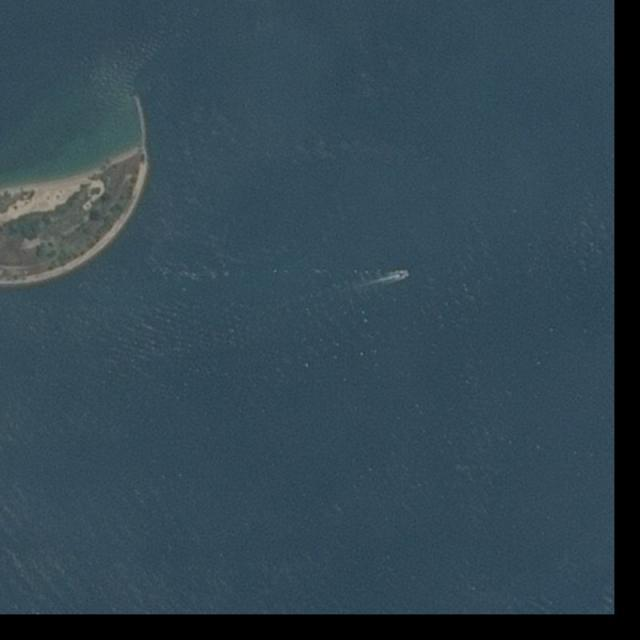ship: (399, 273, 409, 278)
